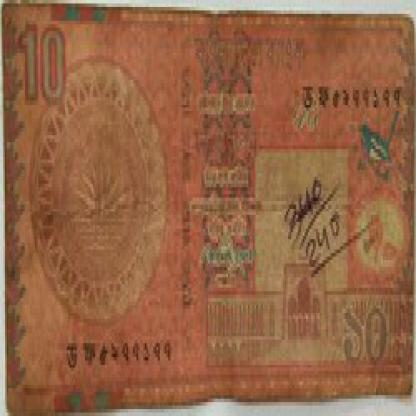Ten Taka: (334, 288, 392, 374), (17, 24, 73, 108)
